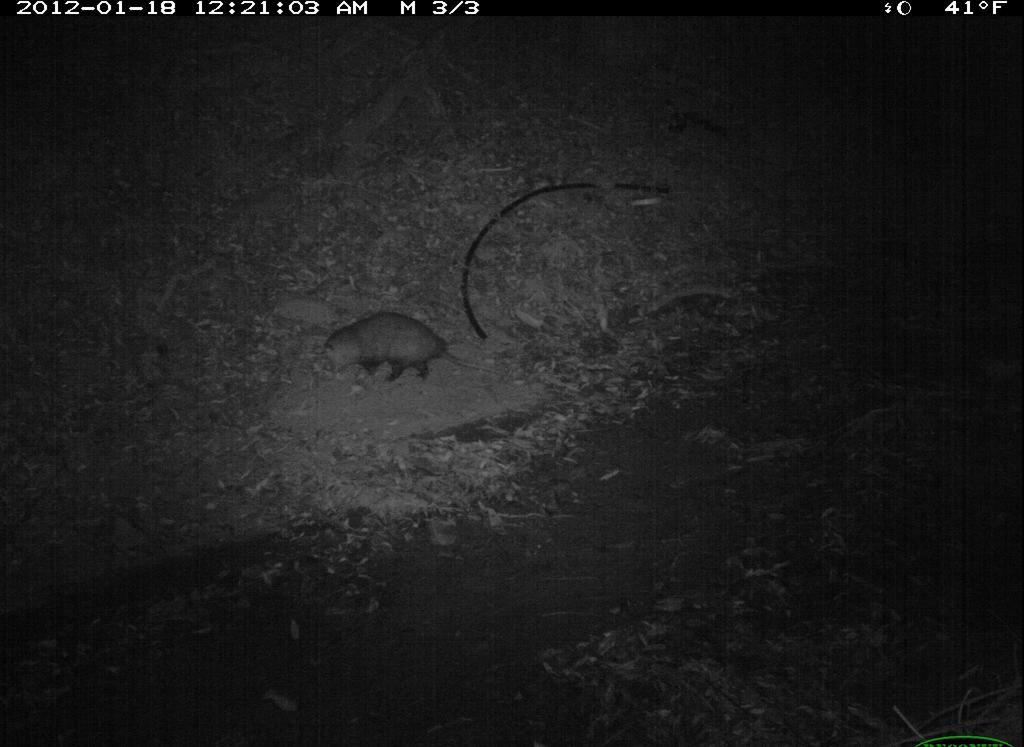opossum: (309, 306, 514, 392)
